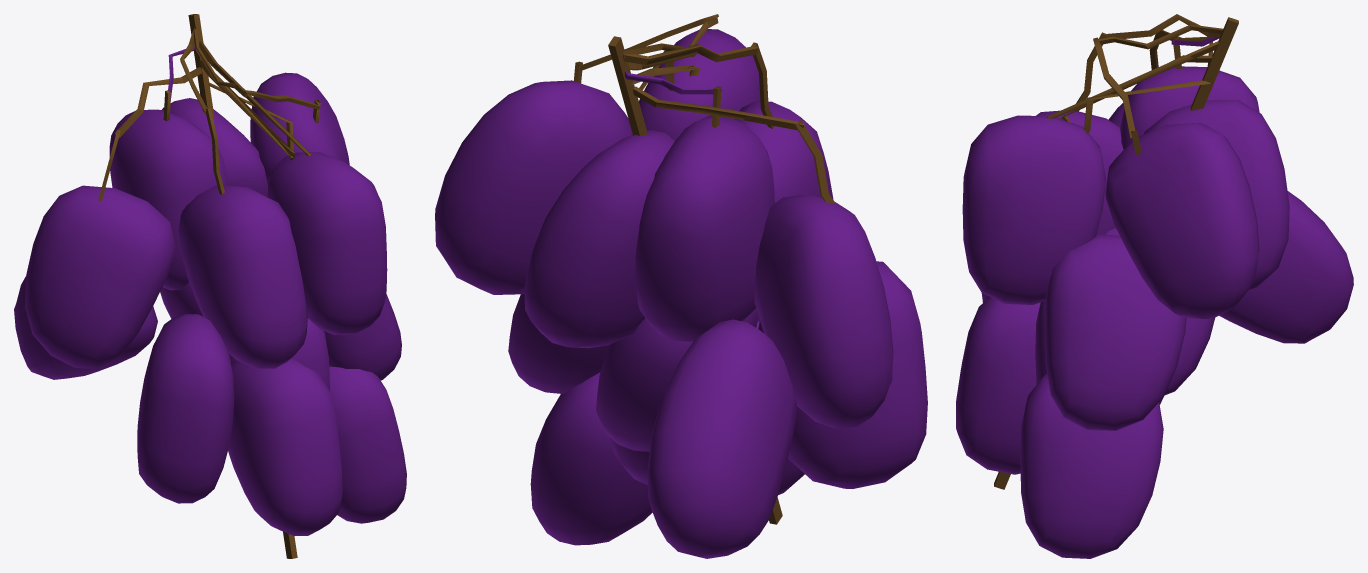
Rendered from grape_01.fbx.
3 renders of one model, left to right at view 1: azimuth 30°, elevation 25°; view 2: azimuth 150°, elevation 25°; view 3: azimuth 270°, elevation 25°, orthographic. The views are drawn at different scales.
Parts seen in each view (by area): view 1: Empty_Mesh; view 2: Empty_Mesh; view 3: Empty_Mesh.
Boxes of the visible parts, bbox=[...] form: Empty_Mesh: bbox=[14, 14, 406, 558]; Empty_Mesh: bbox=[435, 14, 927, 558]; Empty_Mesh: bbox=[956, 14, 1353, 558].
Size of the model in its own units: 24.16 by 32.76 by 24.13.
